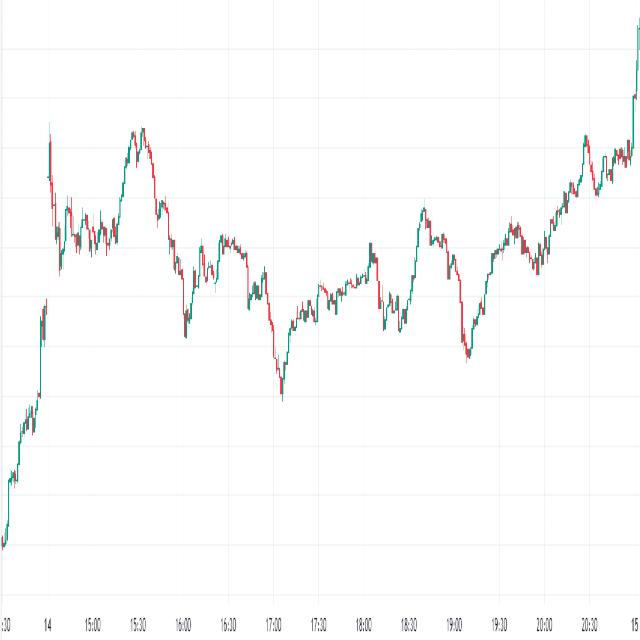Double-Top: (118, 118, 159, 206)
